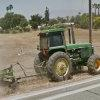Tractor: (14, 14, 100, 78)
